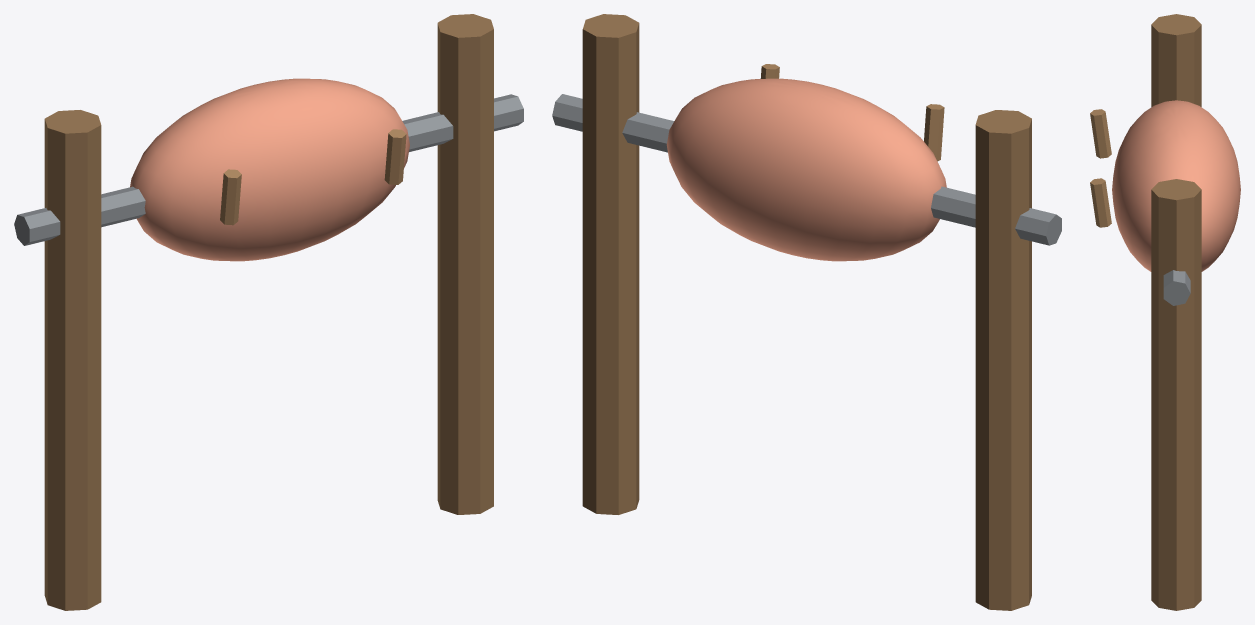
Rendered from spit_roast.glb.
The picture shows the model from 3 angles, left to right: view 1: azimuth 30°, elevation 25°; view 2: azimuth 150°, elevation 25°; view 3: azimuth 270°, elevation 25°; orthographic projection. The views are drawn at different scales.
Visible parts, largest first — view 1: spit_roast_root; view 2: spit_roast_root; view 3: spit_roast_root.
Part boxes in pixels (x1=…): spit_roast_root: x1=14, y1=14, x2=523, y2=610; spit_roast_root: x1=552, y1=14, x2=1061, y2=610; spit_roast_root: x1=1090, y1=14, x2=1240, y2=610.
Size of the model in its own units: 1.95 by 1.8 by 0.5995.
